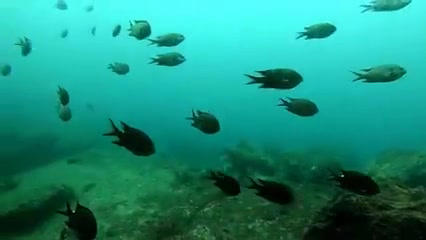mezina: (50, 196, 108, 239), (100, 116, 158, 158), (247, 171, 303, 214), (346, 57, 418, 87), (322, 169, 383, 201), (238, 67, 310, 94), (178, 101, 216, 140), (273, 93, 324, 122), (199, 167, 241, 198), (148, 50, 194, 74), (292, 18, 338, 41), (145, 30, 196, 49), (106, 59, 142, 79), (124, 19, 153, 43)
